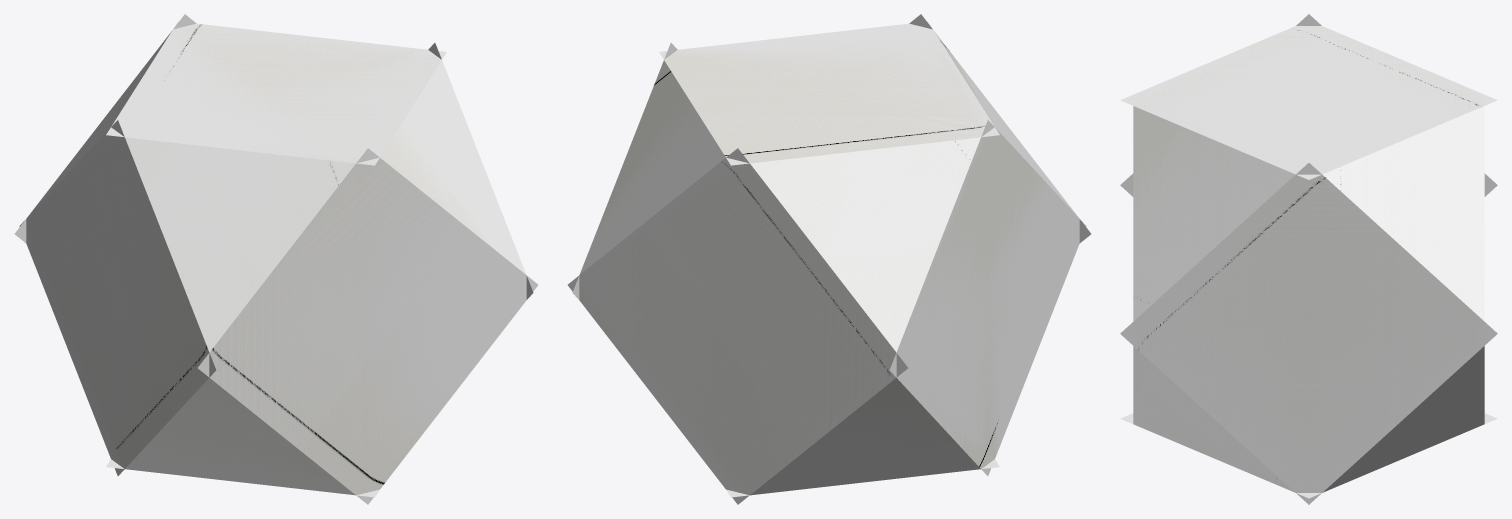
Rendered from Cuboct_10cm_volumetric.fbx.
The picture shows the model from 3 angles, left to right: view 1: azimuth 30°, elevation 25°; view 2: azimuth 150°, elevation 25°; view 3: azimuth 270°, elevation 25°; orthographic projection. The views are drawn at different scales.
Parts seen in each view (by area): view 1: Object_1, Object_1_2; view 2: Object_1, Object_1_2; view 3: Object_1, Object_1_2.
Part boxes in pixels (x1,y1,x2,y2): Object_1: [14, 14, 538, 504]; Object_1_2: [26, 24, 503, 495]; Object_1: [567, 14, 1091, 504]; Object_1_2: [579, 28, 1049, 495]; Object_1: [1120, 14, 1497, 504]; Object_1_2: [1133, 26, 1484, 492].
Bounding box in the file's own units: 0.1093 × 0.1093 × 0.1093.
Materials: 2 (1 with a texture image).
